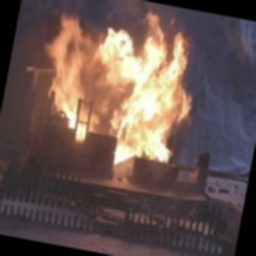fire: (39, 0, 209, 161)
